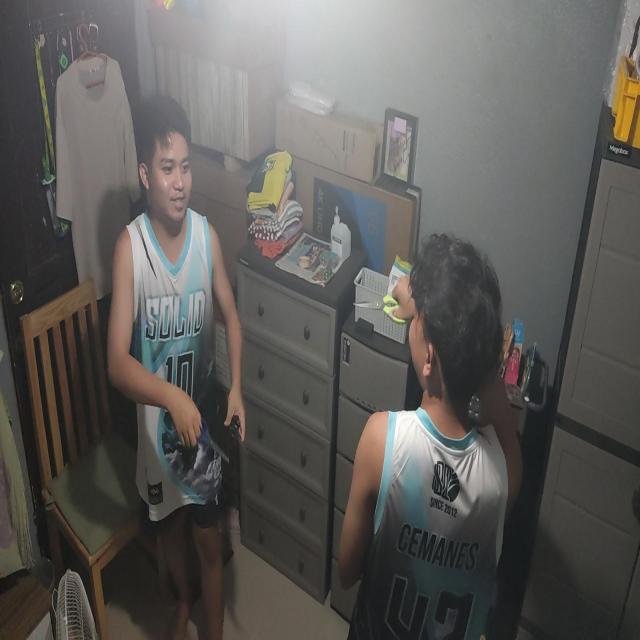scissor: (353, 290, 411, 334), (192, 412, 231, 467)
